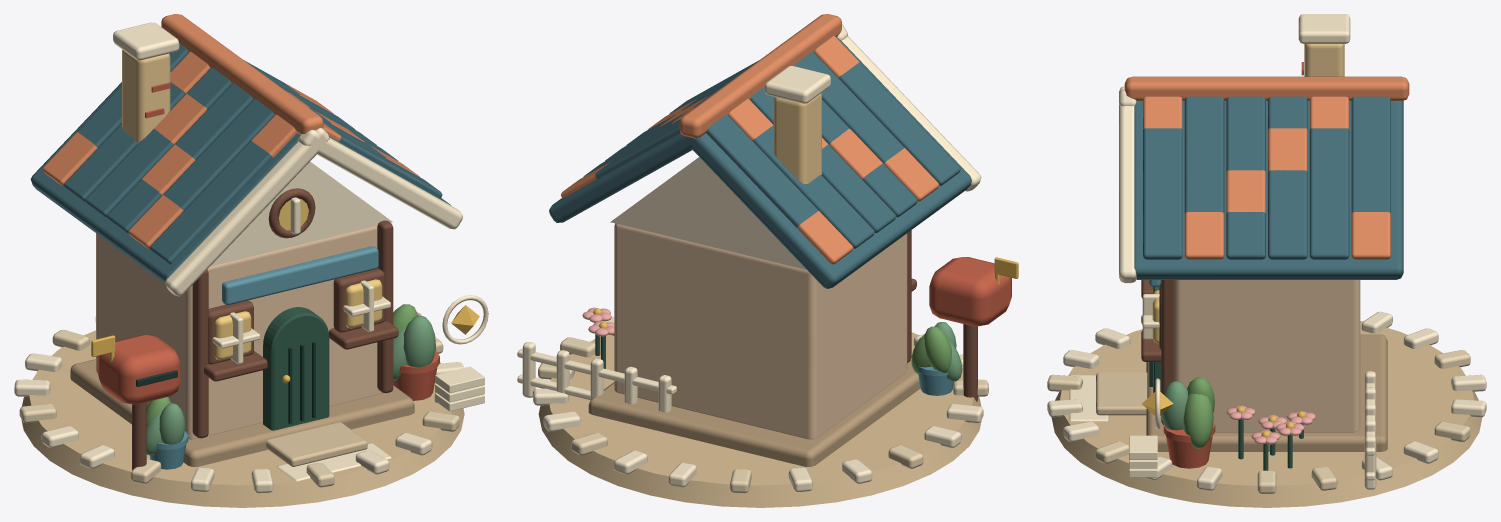
The model's file is mail.glb.
The picture shows the model from 3 angles, left to right: view 1: azimuth 30°, elevation 25°; view 2: azimuth 150°, elevation 25°; view 3: azimuth 270°, elevation 25°; orthographic projection. The views are drawn at different scales.
Parts seen in each view (by area): view 1: building-mail, landmark-mail, treasure-mail; view 2: building-mail, landmark-mail; view 3: building-mail, landmark-mail, treasure-mail.
Part boxes in pixels (bbox=[...]): building-mail: bbox=[30, 14, 484, 481]; landmark-mail: bbox=[14, 317, 464, 507]; treasure-mail: bbox=[442, 295, 488, 344]; building-mail: bbox=[517, 14, 1018, 466]; landmark-mail: bbox=[532, 316, 988, 507]; building-mail: bbox=[1069, 14, 1409, 489]; landmark-mail: bbox=[1047, 311, 1486, 507]; treasure-mail: bbox=[1142, 378, 1173, 429].
Bounding box in the file's own units: 1.56 × 1.39 × 1.53.
